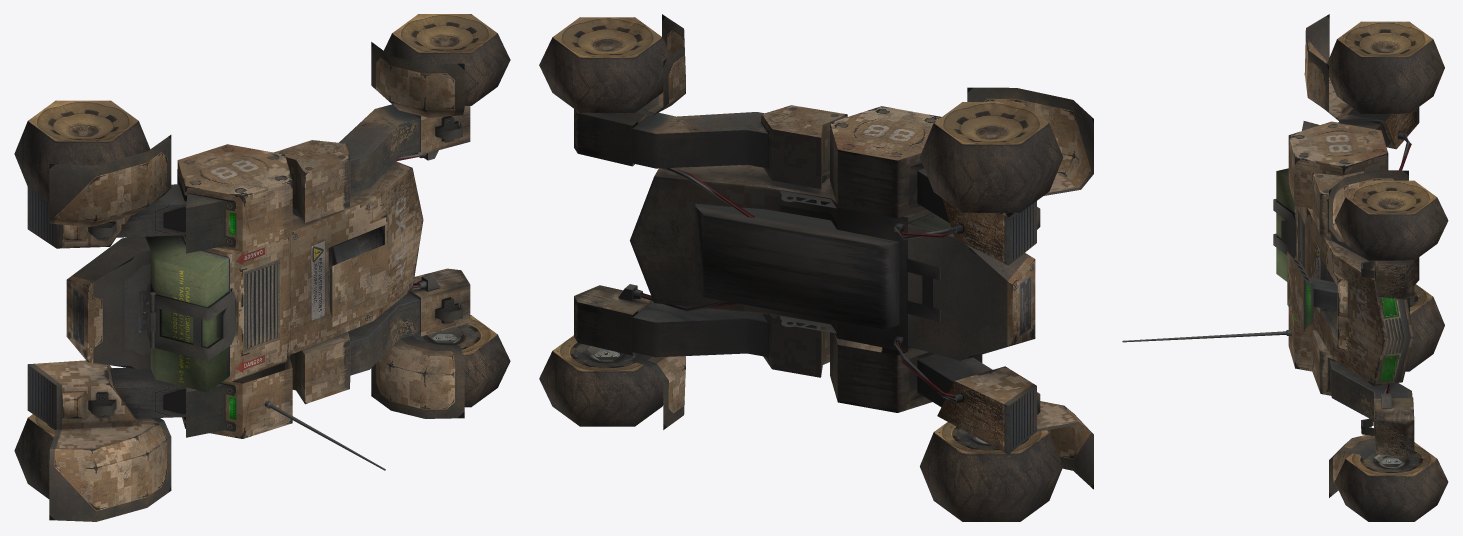
File: veh_t6_drone_rcxd_LOD2.obj
The picture shows the model from 3 angles, left to right: view 1: azimuth 30°, elevation 25°; view 2: azimuth 150°, elevation 25°; view 3: azimuth 270°, elevation 25°; orthographic projection. The views are drawn at different scales.
Parts seen in each view (by area): view 1: mtl_veh_t6_rcxd, mtl_veh_t6_rcxd_extra_bits, mtl_veh_t6_rcxd_wheels; view 2: mtl_veh_t6_rcxd, mtl_veh_t6_rcxd_wheels, mtl_veh_t6_rcxd_extra_bits; view 3: mtl_veh_t6_rcxd, mtl_veh_t6_rcxd_wheels, mtl_veh_t6_rcxd_extra_bits.
Part boxes in pixels (left/top/right/bottom): mtl_veh_t6_rcxd: left=110, top=104, right=470, bottom=470; mtl_veh_t6_rcxd_extra_bits: left=27, top=42, right=464, bottom=521; mtl_veh_t6_rcxd_wheels: left=14, top=14, right=510, bottom=498; mtl_veh_t6_rcxd: left=574, top=105, right=1002, bottom=412; mtl_veh_t6_rcxd_wheels: left=539, top=17, right=1063, bottom=521; mtl_veh_t6_rcxd_extra_bits: left=613, top=14, right=1093, bottom=489; mtl_veh_t6_rcxd: left=1122, top=109, right=1414, bottom=466; mtl_veh_t6_rcxd_wheels: left=1327, top=21, right=1448, bottom=521; mtl_veh_t6_rcxd_extra_bits: left=1302, top=14, right=1419, bottom=497.
Bounding box in the file's own units: 91.76 × 66.18 × 62.1.
